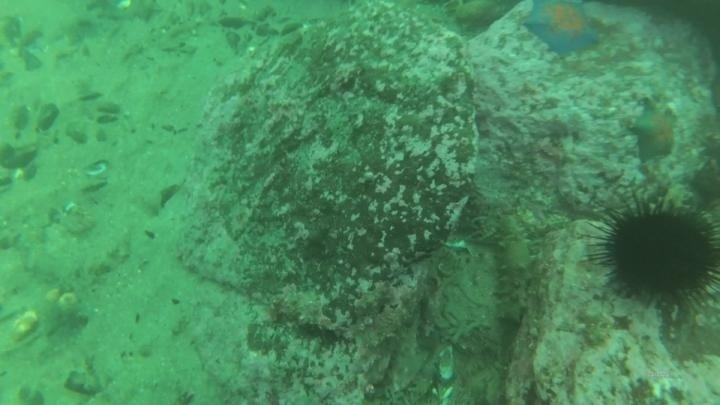echinus: (588, 193, 720, 314)
holothurian: (490, 207, 538, 325)
starfish: (521, 1, 602, 58), (628, 100, 680, 162)
